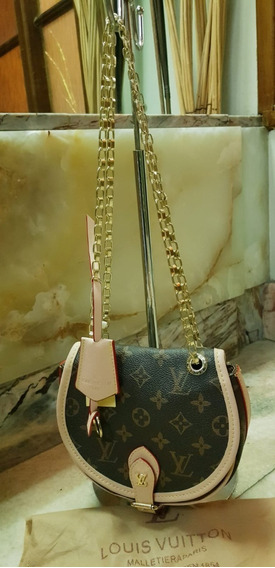cartera: (56, 336, 251, 515)
